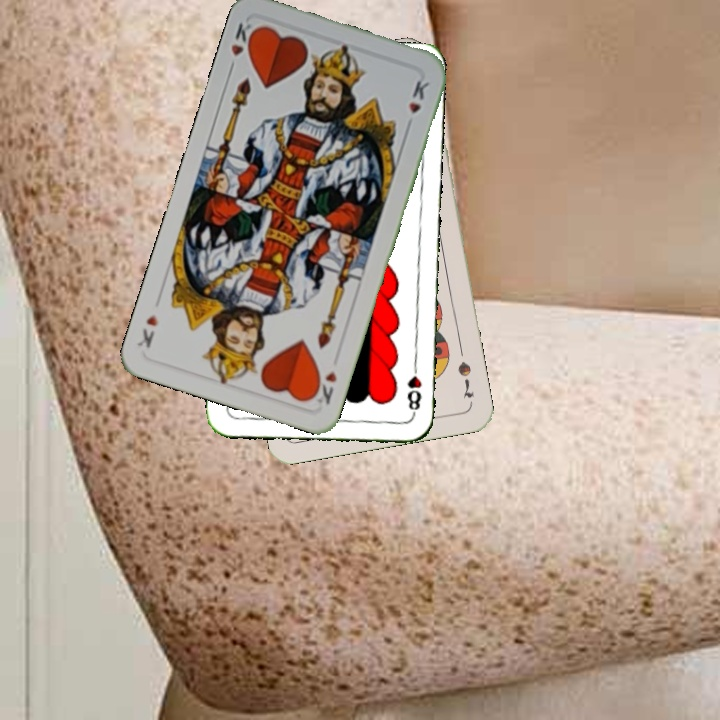H8: (403, 358, 424, 417)
HK: (224, 17, 261, 75), (307, 367, 340, 409)
S7: (453, 357, 476, 401)
